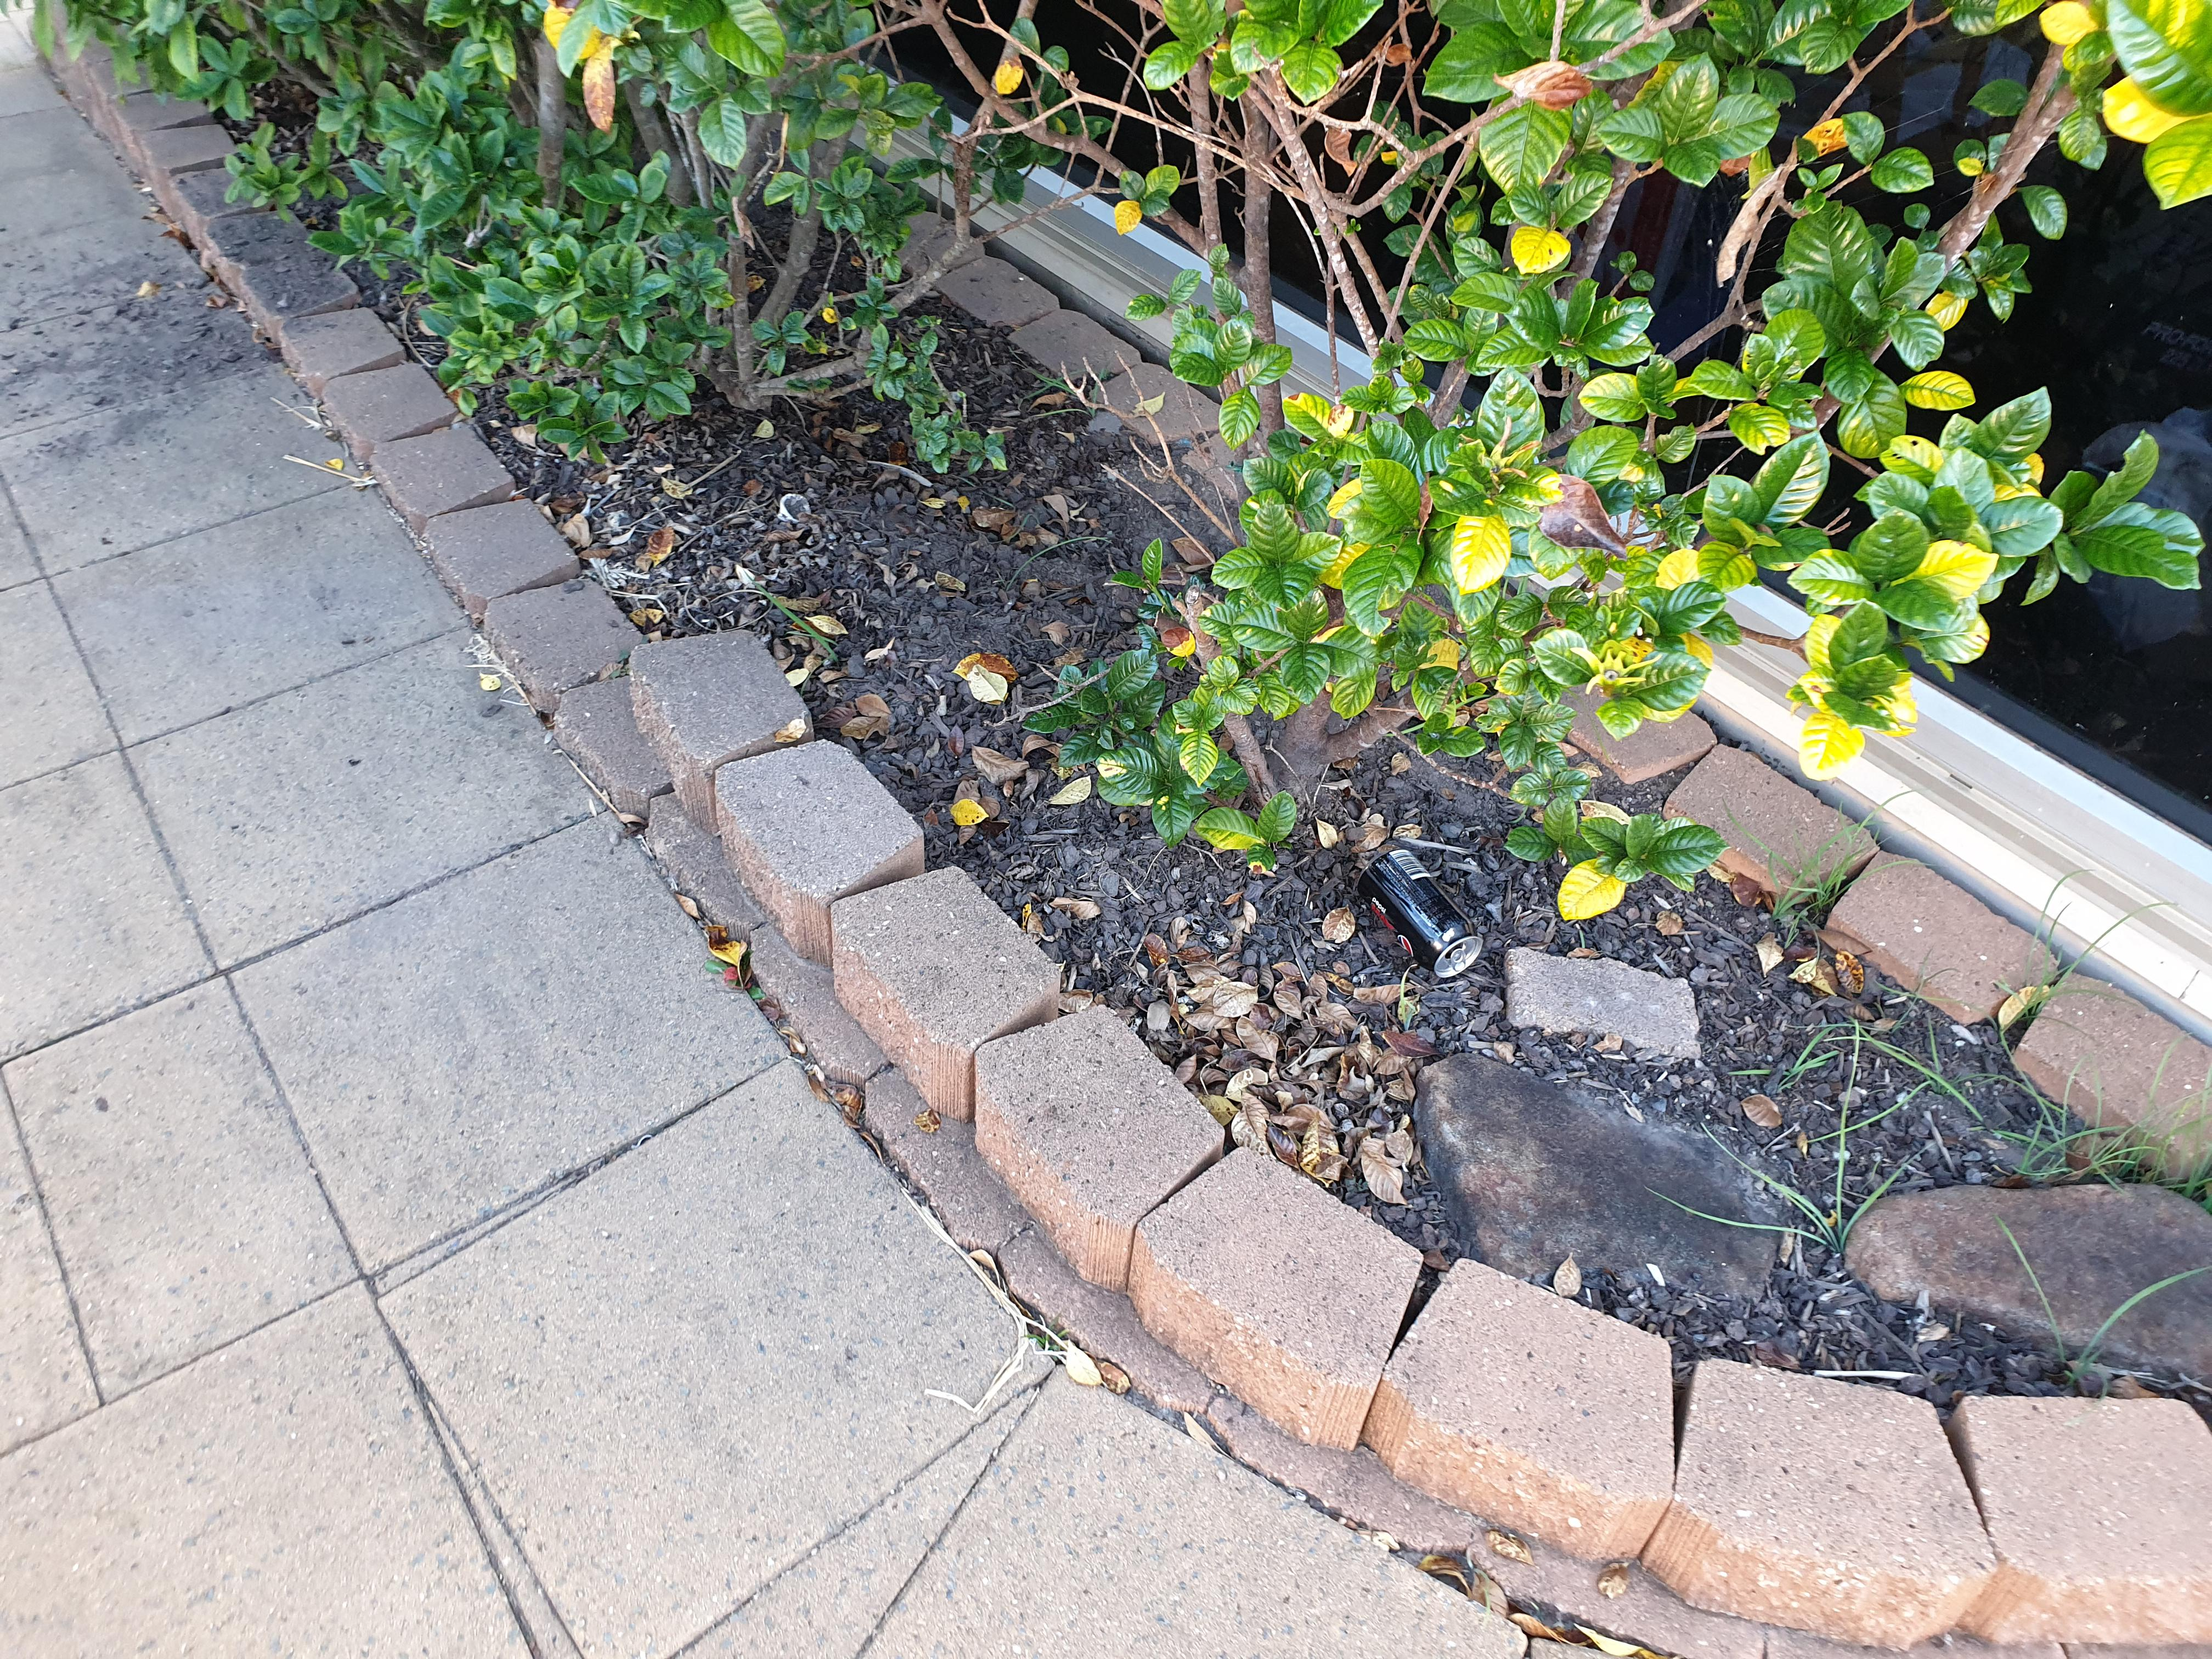Plastic Bottle: (1357, 849, 1484, 978)
